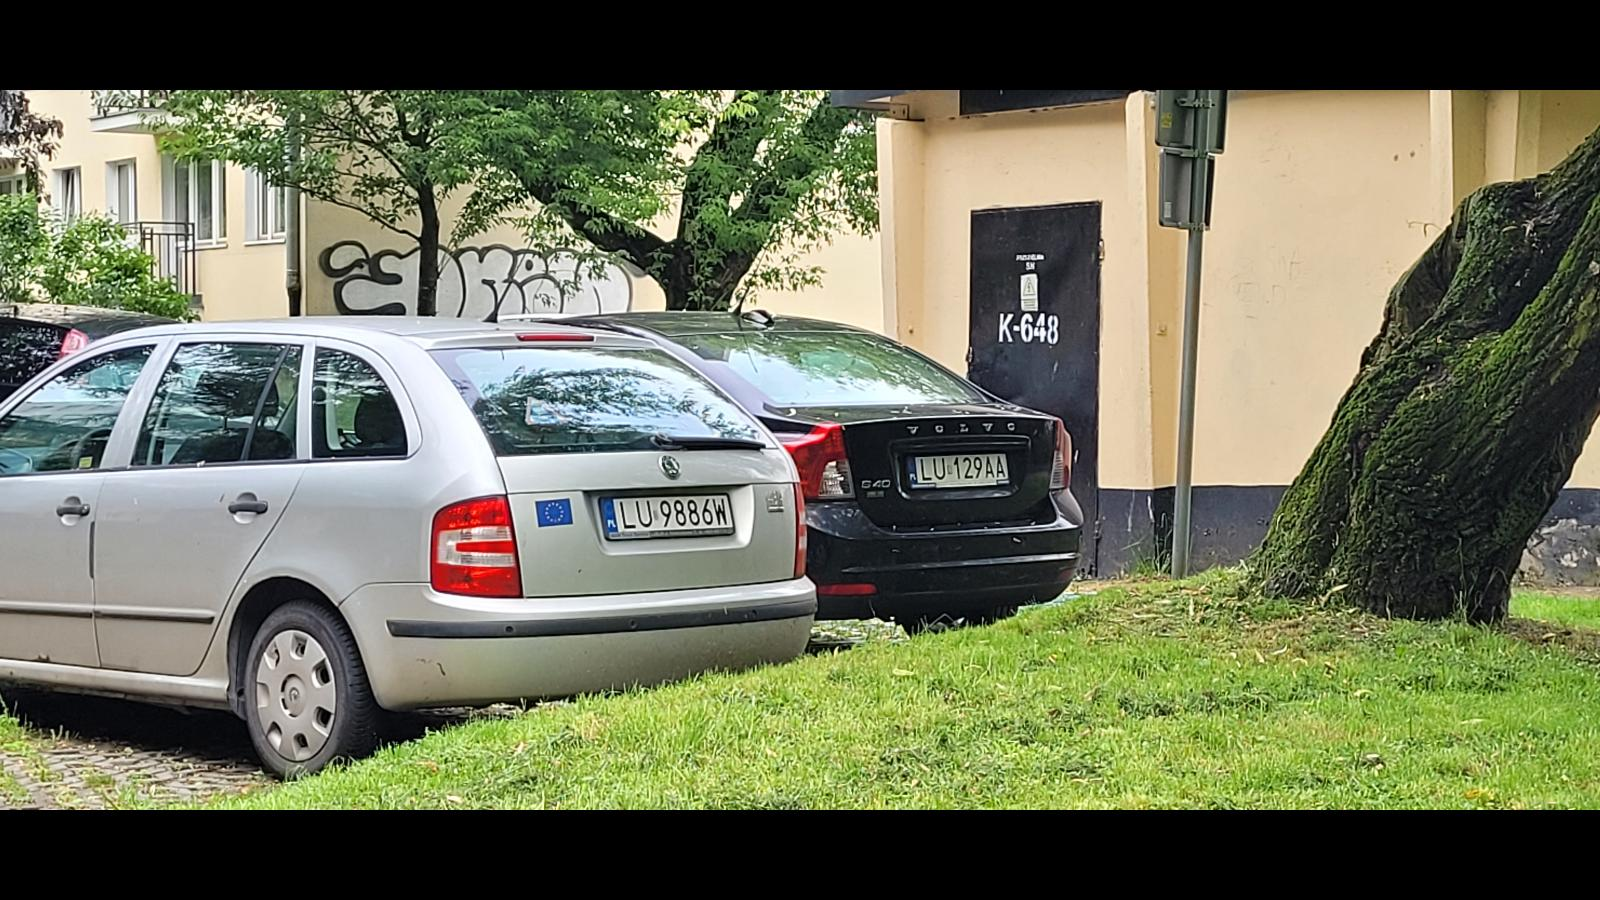plates: (599, 493, 737, 544), (905, 452, 1011, 492)
